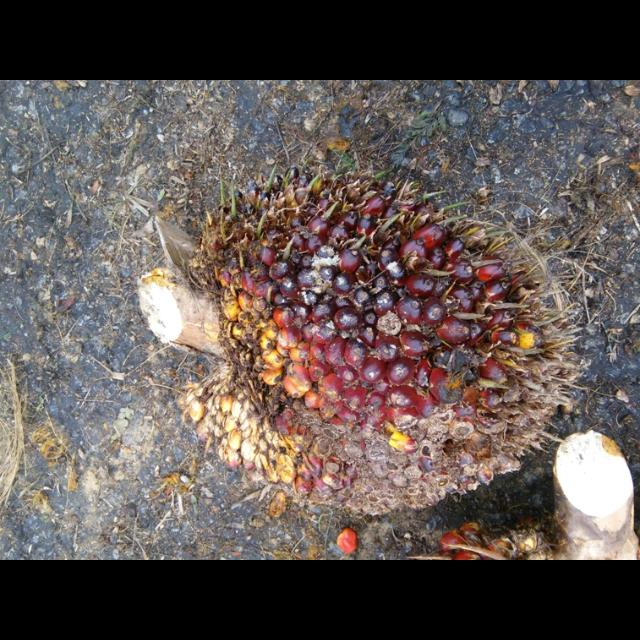Ripe: (182, 173, 571, 512)
